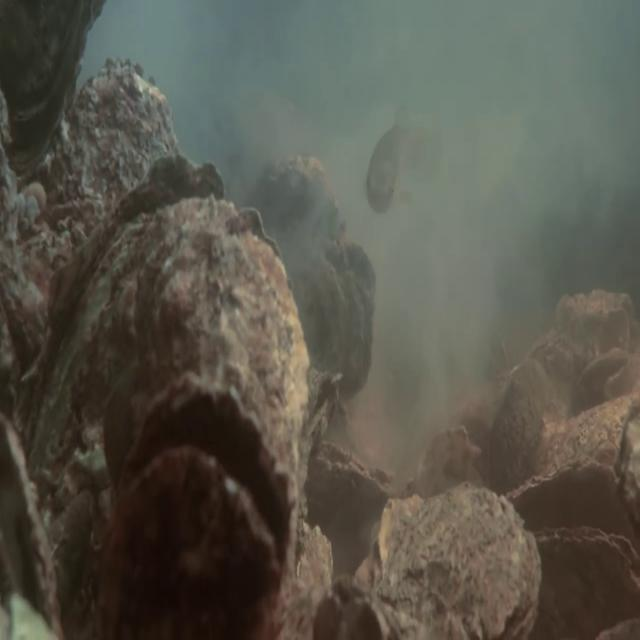Oyster-Closed: (15, 158, 242, 481), (132, 202, 310, 487), (351, 481, 548, 635), (4, 410, 62, 632), (498, 447, 619, 521), (535, 521, 640, 599), (313, 442, 396, 502)
Oyster-Indeterminate: (247, 147, 379, 403), (27, 60, 187, 268), (485, 356, 573, 499)
Oyster-Open: (114, 376, 297, 593), (568, 337, 633, 414)
